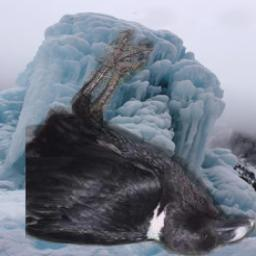Crow: (27, 27, 256, 256)
